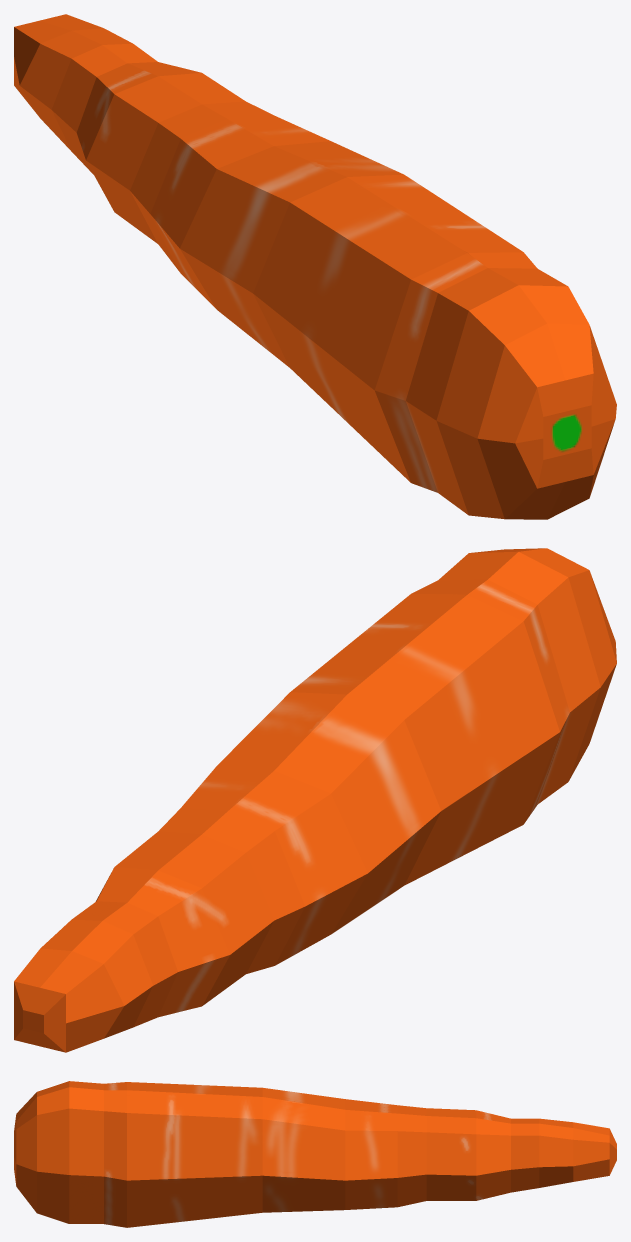
File: cenoura.fbx
The picture shows the model from 3 angles, top to bottom: view 1: azimuth 30°, elevation 25°; view 2: azimuth 150°, elevation 25°; view 3: azimuth 270°, elevation 25°; orthographic projection. The views are drawn at different scales.
Parts seen in each view (by area): view 1: Cube; view 2: Cube; view 3: Cube.
Part boxes in pixels (x1=…): Cube: x1=14, y1=14, x2=616, y2=519; Cube: x1=14, y1=548, x2=616, y2=1052; Cube: x1=14, y1=1081, x2=616, y2=1227.
Bounding box in the file's own units: 97.99 × 117 × 481.
